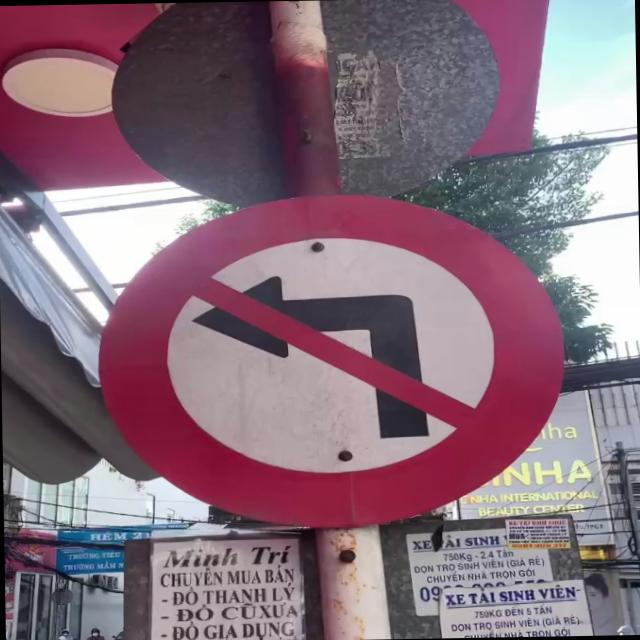Cam_Re_Trai: (92, 188, 568, 530)
